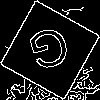G: (25, 25, 76, 80)
